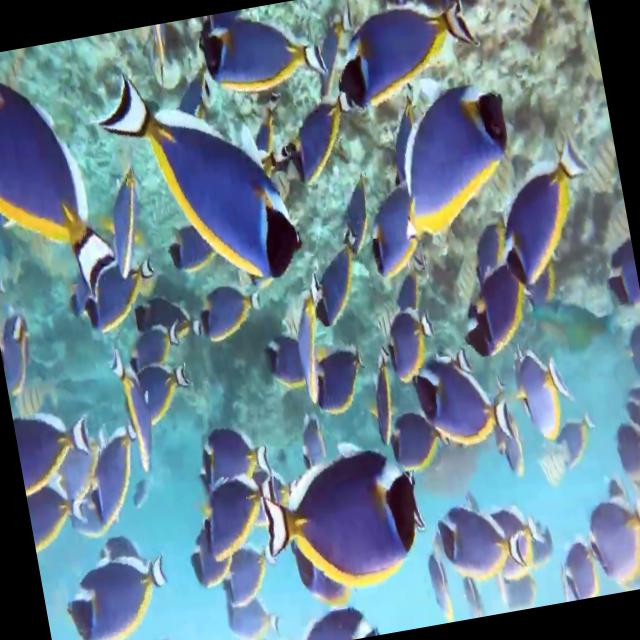fish: (107, 64, 307, 300), (251, 428, 428, 602), (0, 63, 121, 307), (379, 74, 526, 258), (316, 0, 482, 119), (488, 135, 604, 292), (195, 0, 330, 101), (58, 532, 174, 640), (54, 412, 152, 538), (409, 350, 515, 451), (431, 494, 528, 590), (451, 258, 536, 364), (192, 472, 286, 562), (298, 225, 374, 332), (282, 270, 340, 403), (506, 342, 578, 446), (358, 184, 436, 278), (66, 255, 160, 330), (579, 480, 640, 593), (122, 354, 198, 439), (190, 421, 275, 493), (305, 336, 373, 422), (110, 358, 158, 479), (108, 315, 191, 383), (186, 280, 266, 345), (380, 406, 457, 472), (360, 337, 404, 450), (211, 542, 281, 610), (381, 308, 441, 384), (223, 583, 287, 640), (551, 536, 605, 602), (254, 334, 306, 395), (162, 222, 210, 276)
